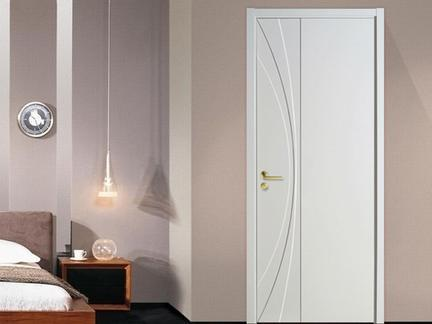door: (253, 15, 374, 322)
